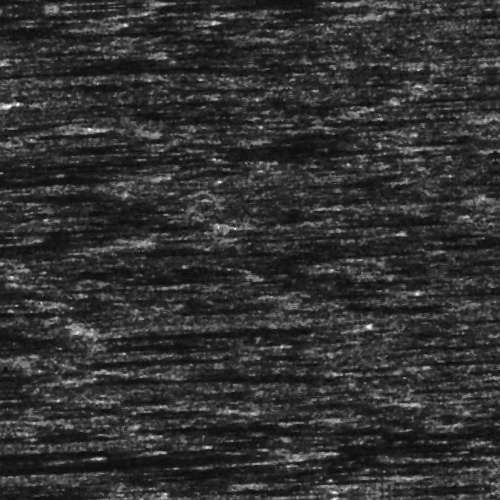object: (0, 113, 138, 126), (79, 226, 172, 245), (236, 450, 351, 463), (67, 11, 140, 24), (79, 442, 194, 449), (0, 221, 86, 230), (95, 167, 178, 176), (431, 465, 500, 474), (437, 125, 500, 132), (101, 496, 194, 500), (321, 2, 374, 9), (181, 219, 254, 224), (191, 352, 254, 357), (58, 0, 193, 2), (343, 150, 396, 155), (0, 87, 26, 96), (51, 391, 92, 396), (337, 325, 358, 334), (370, 480, 401, 485), (295, 373, 336, 376), (0, 43, 5, 56), (0, 145, 5, 154), (376, 0, 417, 1)
shadow: (0, 450, 293, 463), (0, 226, 125, 245), (132, 325, 347, 334), (286, 465, 488, 474), (273, 125, 483, 132), (0, 11, 103, 24), (0, 167, 136, 176), (0, 219, 217, 224), (195, 2, 347, 9), (0, 442, 136, 449), (54, 352, 223, 357), (205, 150, 369, 155), (0, 113, 55, 126), (101, 373, 315, 376), (422, 393, 500, 400), (424, 297, 500, 304), (421, 365, 500, 370), (0, 221, 34, 230), (13, 391, 71, 396), (333, 480, 386, 485), (0, 0, 125, 2), (91, 496, 147, 500), (244, 0, 396, 1), (458, 117, 500, 120)
